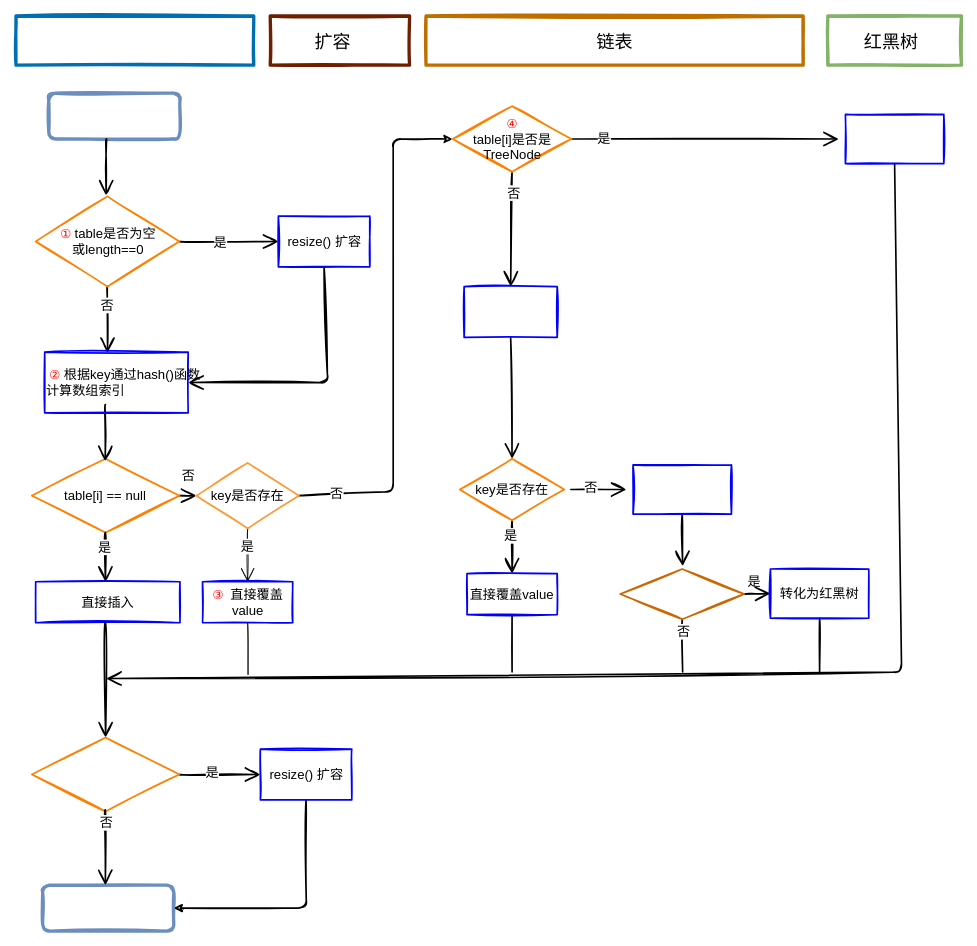
Some shapes in this 977 by 946 pixel diagram are drawn without their labels. The box of each missing label's shape, as (x1, y1, x2, y2) in pixels:
⑤ 遍历链表: (463, 285, 558, 338)
⑥ ++size>threshold: (31, 736, 180, 812)
在红黑树中直接插入: (844, 113, 944, 164)
开始: (47, 91, 181, 140)
插入节点: (632, 464, 732, 515)
结束: (41, 883, 175, 932)
计算索引、逻辑判断: (14, 14, 255, 66)
链表长度是否大于8: (619, 568, 745, 620)
